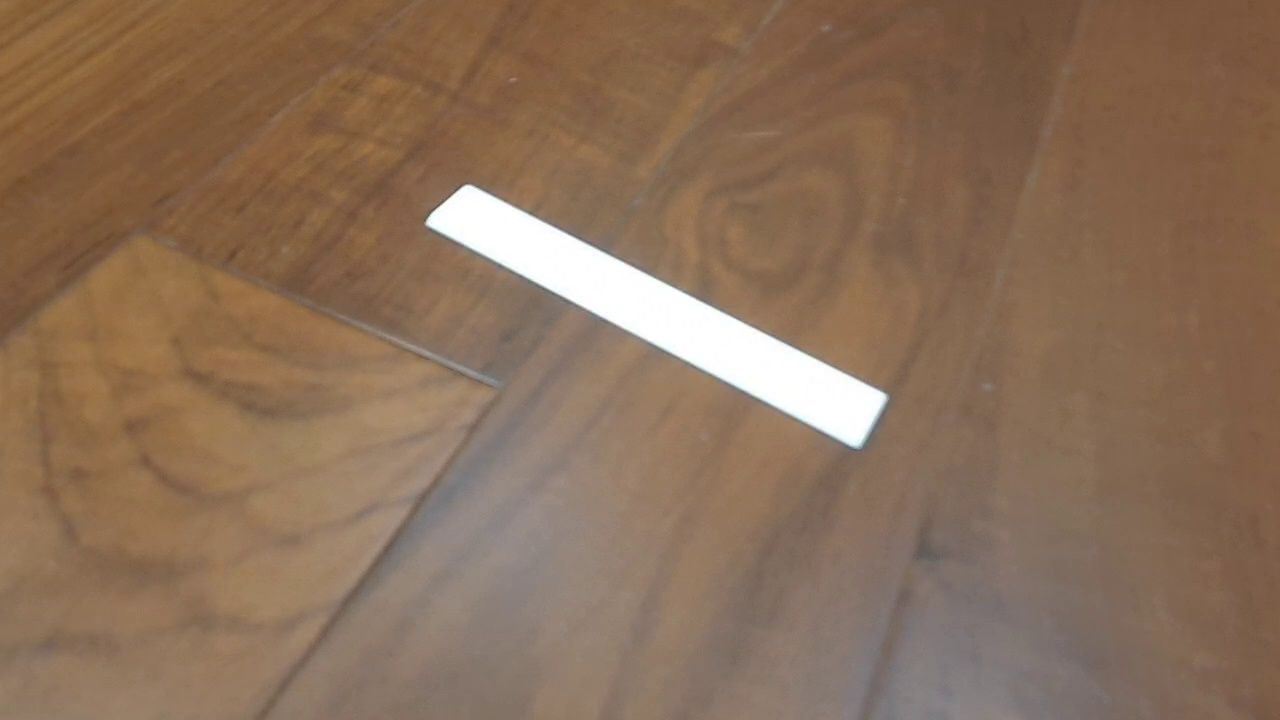ruler: (424, 182, 890, 450)
